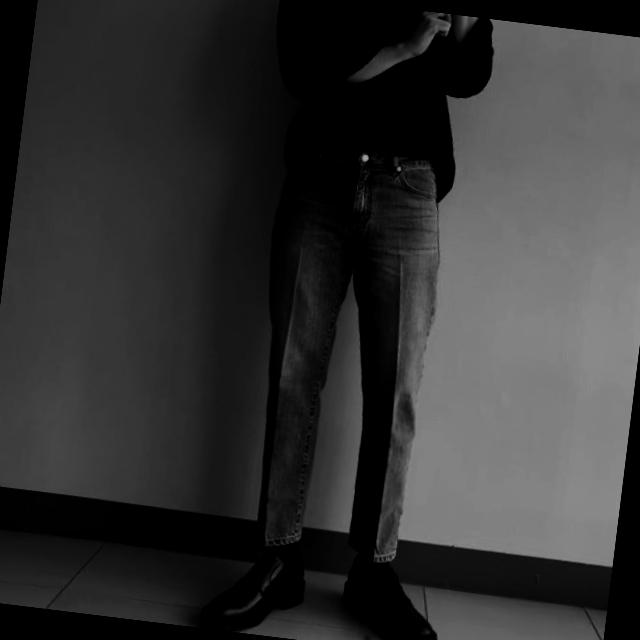denimpants: (232, 138, 455, 564)
shirt: (256, 0, 496, 208)
